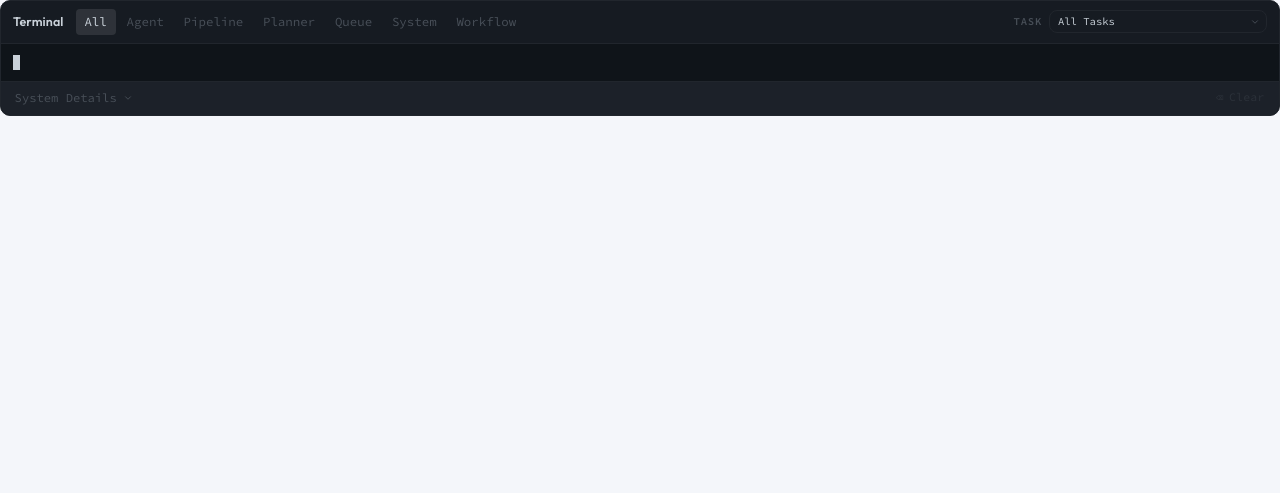
Scenario: TerminalFeed › observability sub-components render inside the open drawer
The image size is (1280, 493).
Click the button "System Details".
click(74, 98)  # box [7,82,141,115]
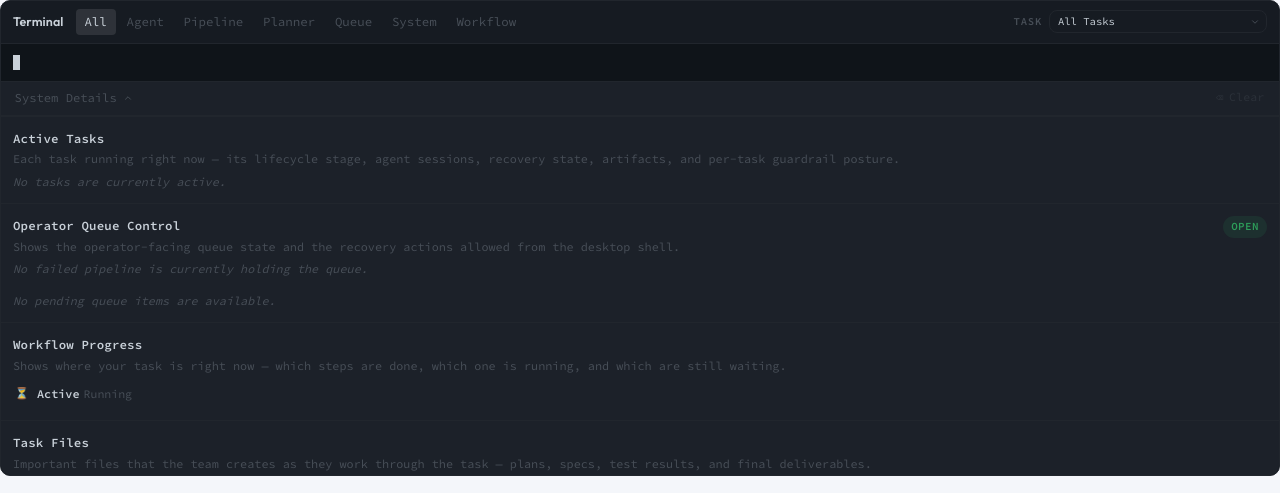
Now the heading "Workflow Progress" is shown, box [13,337,142,352]
Now the heading "Task Files" is shown, box [13,435,89,450]
